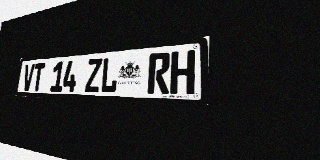1: (50, 61, 65, 92)
4: (62, 60, 78, 92)
H: (170, 50, 195, 94)
L: (100, 56, 119, 93)
R: (147, 52, 171, 94)
T: (32, 63, 45, 91)
V: (22, 64, 35, 91)
Z: (85, 58, 102, 92)
